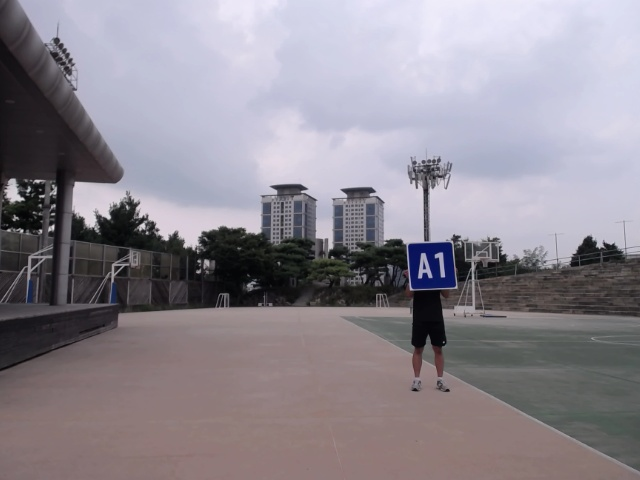delivery_a1: (407, 242, 457, 290)
